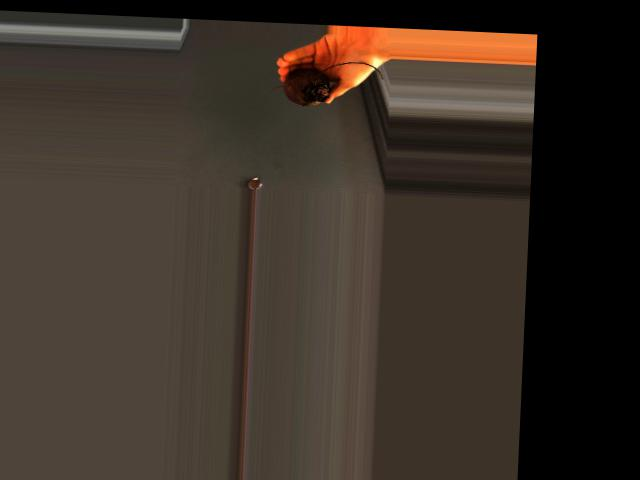beet: (270, 57, 382, 108)
